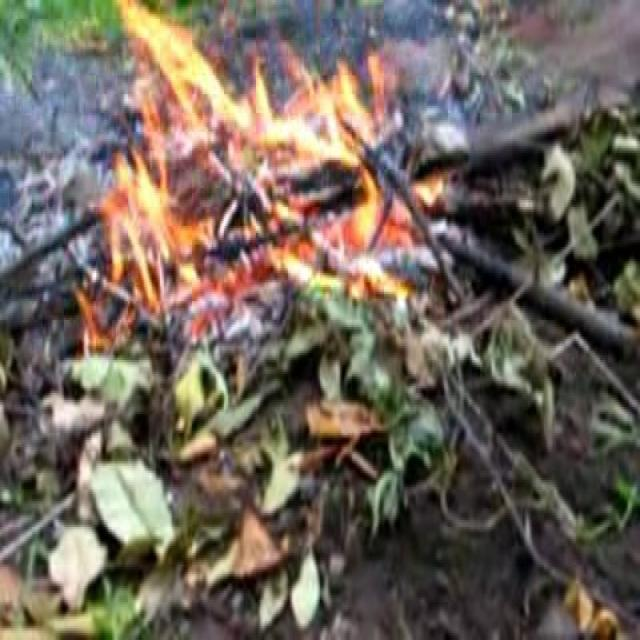Smoke: (118, 3, 408, 307)
